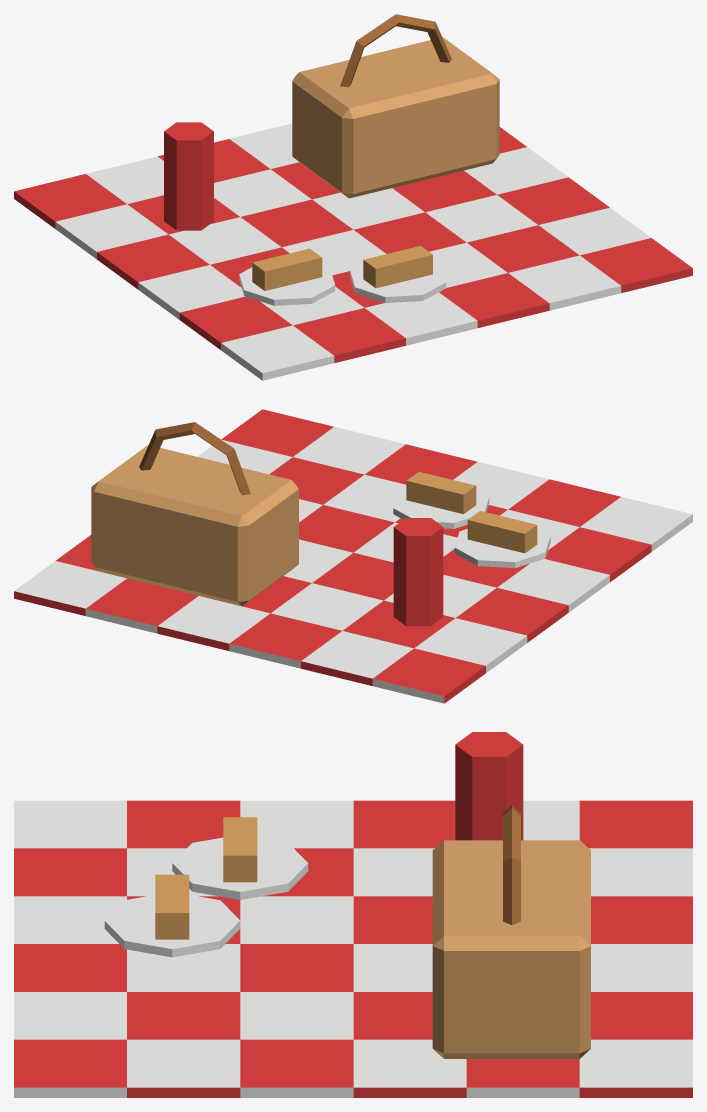
File: PicnicSet.fbx
3 renders of one model, top to bottom at view 1: azimuth 30°, elevation 25°; view 2: azimuth 150°, elevation 25°; view 3: azimuth 270°, elevation 25°, orthographic. The views are drawn at different scales.
Visible parts, largest first — view 1: PicnicSet; view 2: PicnicSet; view 3: PicnicSet.
Boxes of the visible parts, x1,y1,x2,y2 form: PicnicSet: (14, 14, 692, 380); PicnicSet: (14, 409, 692, 703); PicnicSet: (14, 732, 692, 1097).
Size of the model in its own units: 6 by 2.08 by 6.
Materials: 1 (1 with a texture image).
